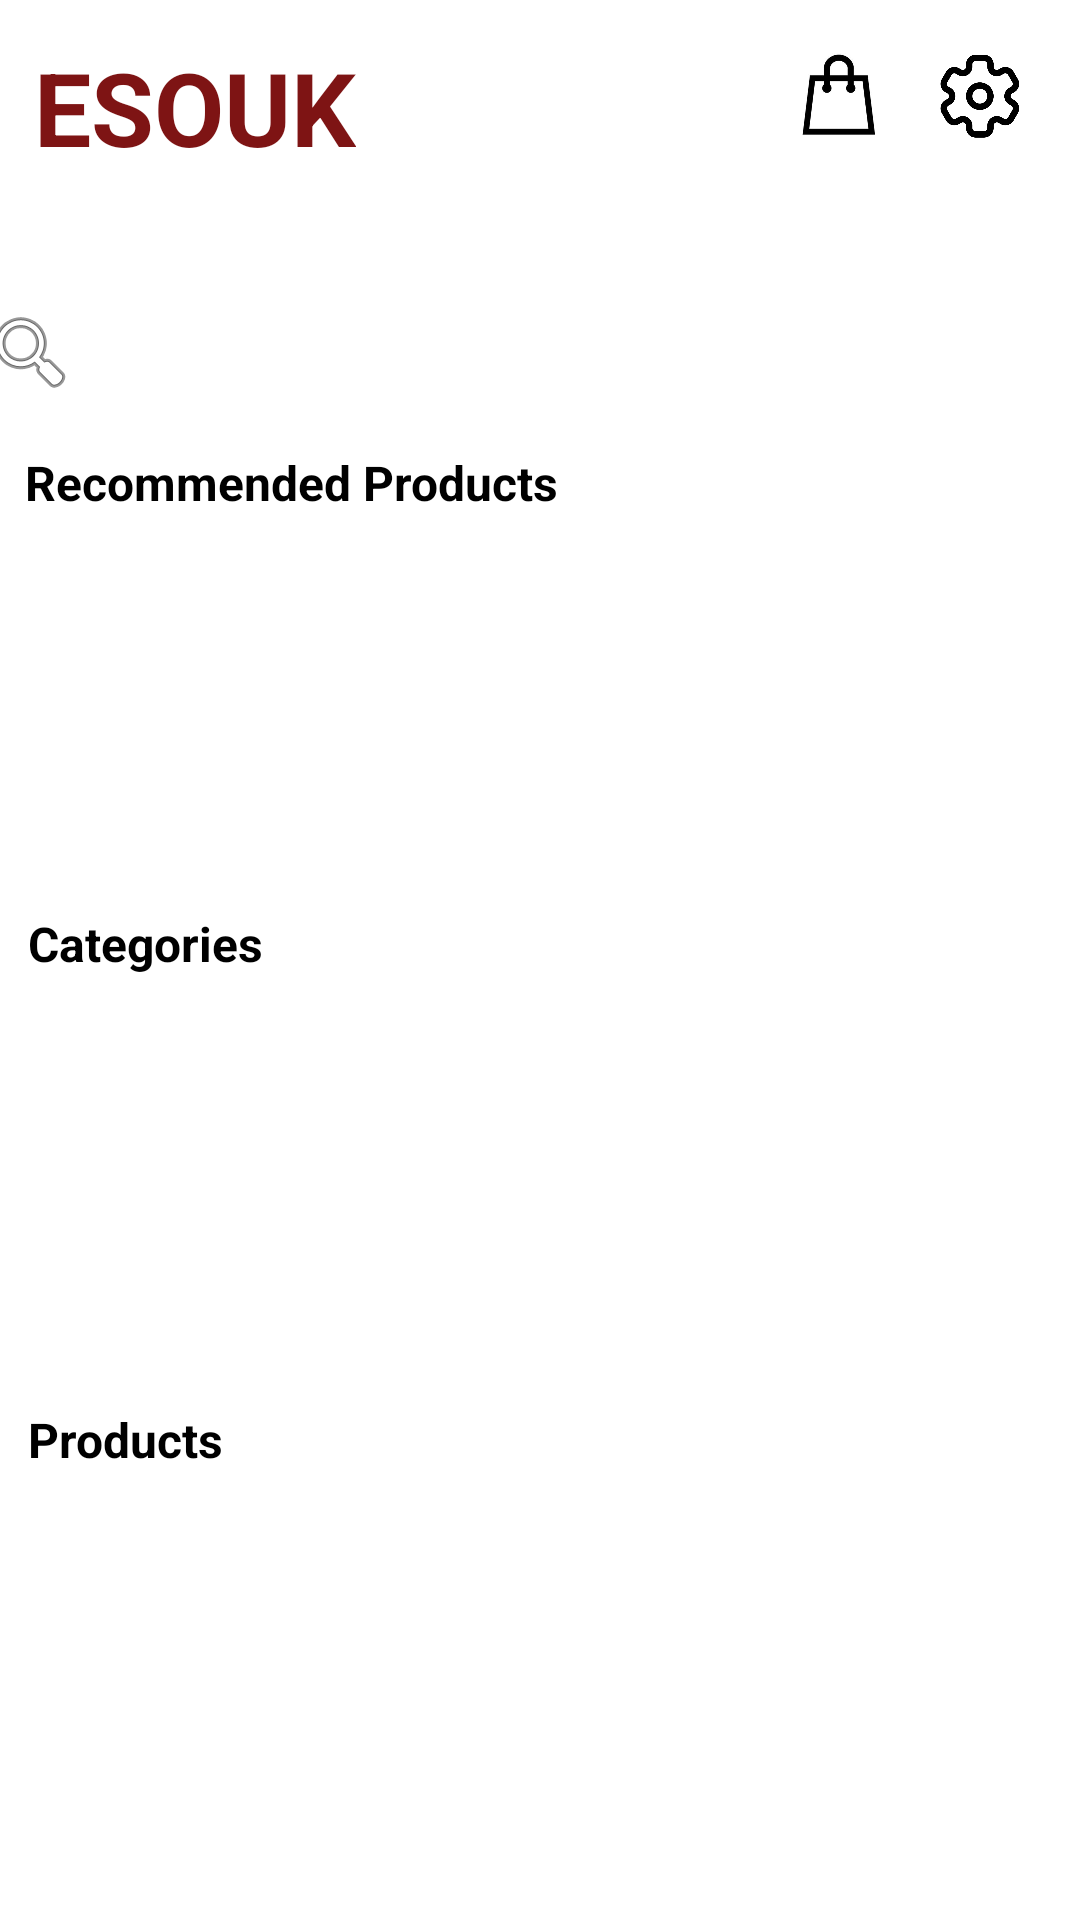

Named icons in this screenshot (1080 × 1920) and their bounding boxes, (x1, y1, x2, y2):
panier: (802, 54, 875, 135)
